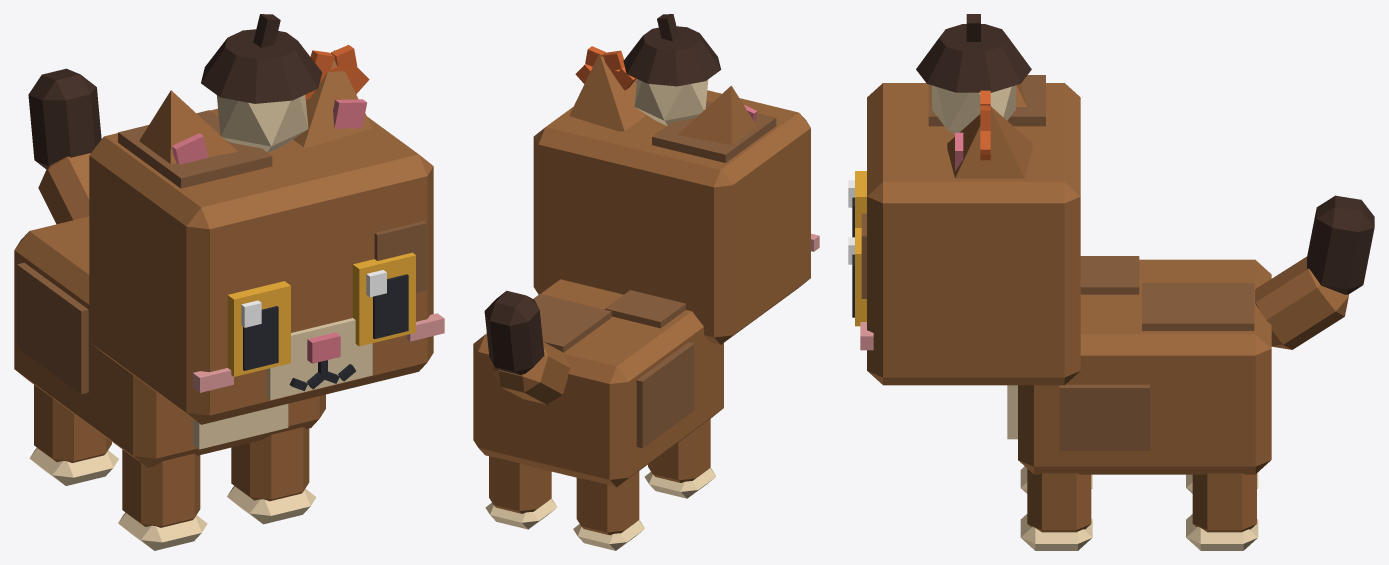
Rendered from CatCafe_Cat_AcornCap.glb.
3 views of the same model, side by side, from view 1: azimuth 30°, elevation 25°; view 2: azimuth 150°, elevation 25°; view 3: azimuth 270°, elevation 25° (orthographic). The views are drawn at different scales.
Visible parts, largest first — view 1: CatCafe_Cat_AcornCap_Head, CatCafe_Cat_AcornCap_Body, CatCafe_Cat_AcornCap_Prop, CatCafe_Cat_AcornCap_Tail, CatCafe_Cat_AcornCap_LegF2, CatCafe_Cat_AcornCap_LegF1, CatCafe_Cat_AcornCap_Eye2, CatCafe_Cat_AcornCap_Eye1, CatCafe_Cat_AcornCap_LegB2, CatCafe_Cat_AcornCap_EarR, CatCafe_Cat_AcornCap_EarL; view 2: CatCafe_Cat_AcornCap_Head, CatCafe_Cat_AcornCap_Body, CatCafe_Cat_AcornCap_Prop, CatCafe_Cat_AcornCap_Tail, CatCafe_Cat_AcornCap_LegB2, CatCafe_Cat_AcornCap_LegB1, CatCafe_Cat_AcornCap_LegF2, CatCafe_Cat_AcornCap_EarL, CatCafe_Cat_AcornCap_EarR; view 3: CatCafe_Cat_AcornCap_Head, CatCafe_Cat_AcornCap_Body, CatCafe_Cat_AcornCap_Tail, CatCafe_Cat_AcornCap_Prop, CatCafe_Cat_AcornCap_LegF1, CatCafe_Cat_AcornCap_LegB1, CatCafe_Cat_AcornCap_EarL, CatCafe_Cat_AcornCap_Eye1, CatCafe_Cat_AcornCap_Eye2.
Part boxes in pixels (<box>): CatCafe_Cat_AcornCap_Head: <box>89,108,444,424</box>; CatCafe_Cat_AcornCap_Body: <box>14,216,325,467</box>; CatCafe_Cat_AcornCap_Prop: <box>201,14,369,152</box>; CatCafe_Cat_AcornCap_Tail: <box>28,68,101,224</box>; CatCafe_Cat_AcornCap_LegF2: <box>118,449,207,550</box>; CatCafe_Cat_AcornCap_LegF1: <box>227,427,316,524</box>; CatCafe_Cat_AcornCap_Eye2: <box>227,281,290,376</box>; CatCafe_Cat_AcornCap_Eye1: <box>352,252,415,346</box>; CatCafe_Cat_AcornCap_LegB2: <box>29,384,118,485</box>; CatCafe_Cat_AcornCap_EarR: <box>139,90,237,164</box>; CatCafe_Cat_AcornCap_EarL: <box>293,50,372,147</box>; CatCafe_Cat_AcornCap_Head: <box>533,78,819,344</box>; CatCafe_Cat_AcornCap_Body: <box>473,279,723,487</box>; CatCafe_Cat_AcornCap_Prop: <box>575,14,721,125</box>; CatCafe_Cat_AcornCap_Tail: <box>484,290,569,404</box>; CatCafe_Cat_AcornCap_LegB2: <box>573,471,644,550</box>; CatCafe_Cat_AcornCap_LegB1: <box>485,456,557,529</box>; CatCafe_Cat_AcornCap_LegF2: <box>644,419,716,498</box>; CatCafe_Cat_AcornCap_EarL: <box>569,53,646,131</box>; CatCafe_Cat_AcornCap_EarR: <box>678,85,757,144</box>; CatCafe_Cat_AcornCap_Head: <box>860,75,1080,385</box>; CatCafe_Cat_AcornCap_Body: <box>1007,256,1271,474</box>; CatCafe_Cat_AcornCap_Tail: <box>1255,195,1374,349</box>; CatCafe_Cat_AcornCap_Prop: <box>916,14,1031,160</box>; CatCafe_Cat_AcornCap_LegF1: <box>1020,469,1092,550</box>; CatCafe_Cat_AcornCap_LegB1: <box>1186,473,1258,550</box>; CatCafe_Cat_AcornCap_EarL: <box>947,105,1032,178</box>; CatCafe_Cat_AcornCap_Eye1: <box>848,228,866,326</box>; CatCafe_Cat_AcornCap_Eye2: <box>848,171,866,237</box>.
Bounding box in the file's own units: 1 × 2.08 × 1.97.
1 material, 1 textured.
